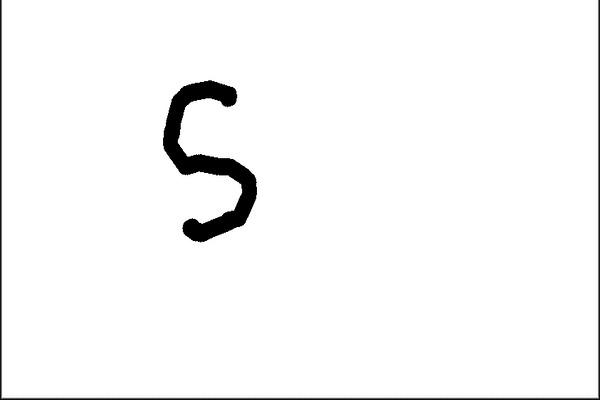S: (153, 71, 270, 257)
